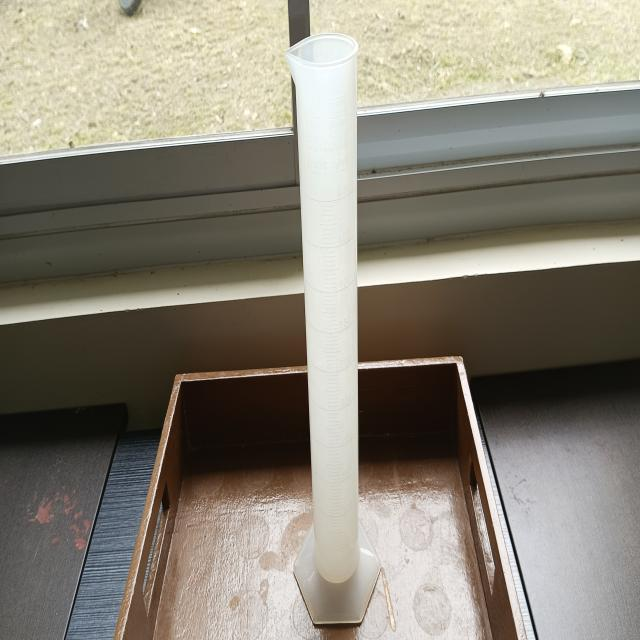graduated_cylinder: (282, 27, 386, 632)
